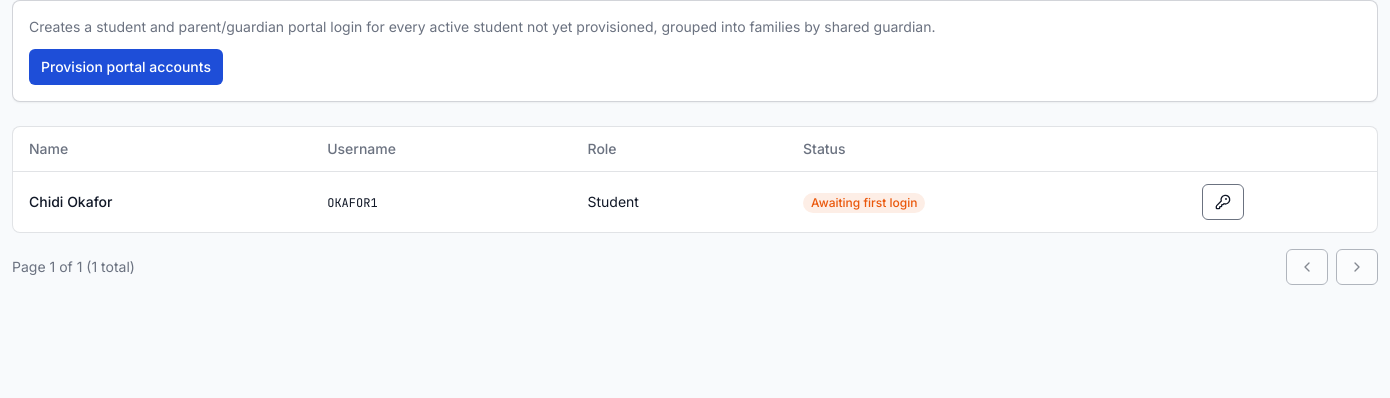
Test case: PortalAccountsSettingsPage › provisioning shows the created-count summary and any warnings
Click the button "Provision portal accounts".
click(126, 67)  # box [29,49,223,85]
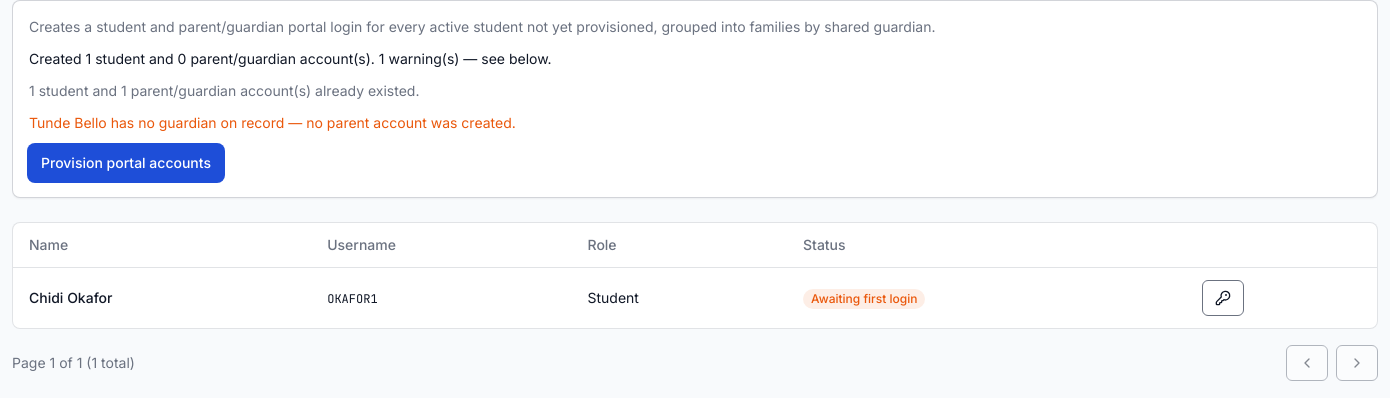
Expected: the text "Created 1 student and 0 parent/guardian account" is shown, [29,50,552,67]
Expected: the list item "Tunde Bello has no guardian on record" is shown, [29,114,516,131]
